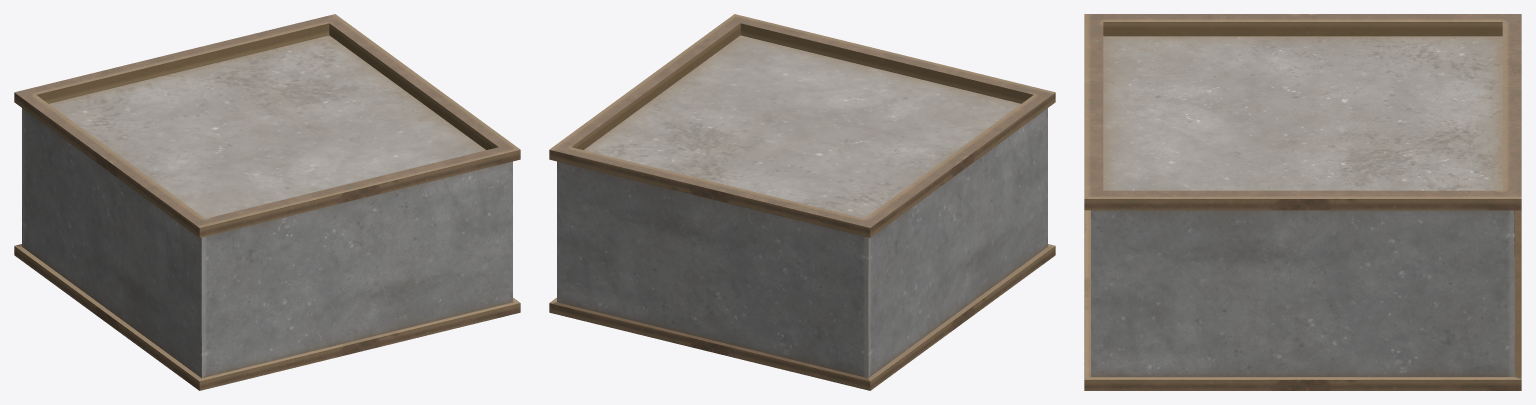
File: RectHouse_root.fbx
3 views of the same model, side by side, from view 1: azimuth 30°, elevation 25°; view 2: azimuth 150°, elevation 25°; view 3: azimuth 270°, elevation 25° (orthographic). The views are drawn at different scales.
Visible parts, largest first — view 1: RectHouse_sh_1, RectHouse_sh_4, RectHouse_sh_7, RectHouse_sh_18, RectHouse_sh_2, RectHouse_sh_13, RectHouse_sh_29, RectHouse_sh_6, RectHouse_sh_24, RectHouse_sh_11, RectHouse_sh_12, RectHouse_sh_15 (+13 smaller); view 2: RectHouse_sh_21, RectHouse_sh_25, RectHouse_sh_2, RectHouse_sh_29, RectHouse_sh_26, RectHouse_sh_6, RectHouse_sh_24, RectHouse_sh_11, RectHouse_sh_7, RectHouse_sh_30, RectHouse_sh_28, RectHouse_sh_13 (+13 smaller); view 3: RectHouse_sh_24, RectHouse_sh_14, RectHouse_sh_18, RectHouse_sh_2, RectHouse_sh_30, RectHouse_sh_8, RectHouse_sh_16, RectHouse_sh_13, RectHouse_sh_7, RectHouse_sh_6, RectHouse_sh_4, RectHouse_sh_11 (+10 smaller).
Boxes of the visible parts, box(x1,y1,x2,y2) form: RectHouse_sh_1: box(160, 253, 345, 390); RectHouse_sh_4: box(350, 135, 467, 294); RectHouse_sh_7: box(165, 177, 296, 309); RectHouse_sh_18: box(429, 110, 520, 301); RectHouse_sh_2: box(221, 14, 401, 87); RectHouse_sh_13: box(214, 154, 373, 269); RectHouse_sh_29: box(83, 220, 183, 378); RectHouse_sh_6: box(38, 108, 147, 255); RectHouse_sh_24: box(311, 62, 466, 139); RectHouse_sh_11: box(101, 155, 211, 285); RectHouse_sh_12: box(330, 293, 481, 358); RectHouse_sh_15: box(277, 138, 374, 305); RectHouse_sh_21: box(610, 166, 720, 350); RectHouse_sh_25: box(757, 194, 895, 319); RectHouse_sh_2: box(549, 101, 676, 224); RectHouse_sh_29: box(935, 212, 1039, 339); RectHouse_sh_26: box(738, 191, 818, 364); RectHouse_sh_6: box(824, 162, 958, 285); RectHouse_sh_24: box(616, 53, 757, 132); RectHouse_sh_11: box(920, 117, 1029, 219); RectHouse_sh_7: box(919, 69, 1055, 180); RectHouse_sh_30: box(549, 167, 621, 321); RectHouse_sh_28: box(683, 158, 775, 304); RectHouse_sh_13: box(842, 50, 958, 130); RectHouse_sh_24: box(1189, 157, 1377, 319); RectHouse_sh_14: box(1084, 303, 1410, 390); RectHouse_sh_18: box(1084, 163, 1210, 367); RectHouse_sh_2: box(1365, 132, 1521, 308); RectHouse_sh_30: box(1413, 217, 1521, 390); RectHouse_sh_8: box(1351, 133, 1521, 390); RectHouse_sh_16: box(1228, 16, 1407, 103); RectHouse_sh_13: box(1084, 68, 1259, 122); RectHouse_sh_7: box(1084, 14, 1228, 82); RectHouse_sh_6: box(1314, 14, 1463, 77); RectHouse_sh_4: box(1084, 114, 1241, 186); RectHouse_sh_11: box(1165, 14, 1315, 70).
Size of the model in its own units: 825 by 400 by 825.
2 materials, 2 textured.
